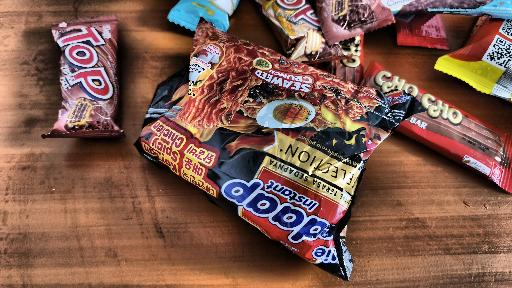chocho: (366, 58, 512, 198)
mie sedap: (160, 9, 424, 285)
top: (43, 10, 125, 141)
